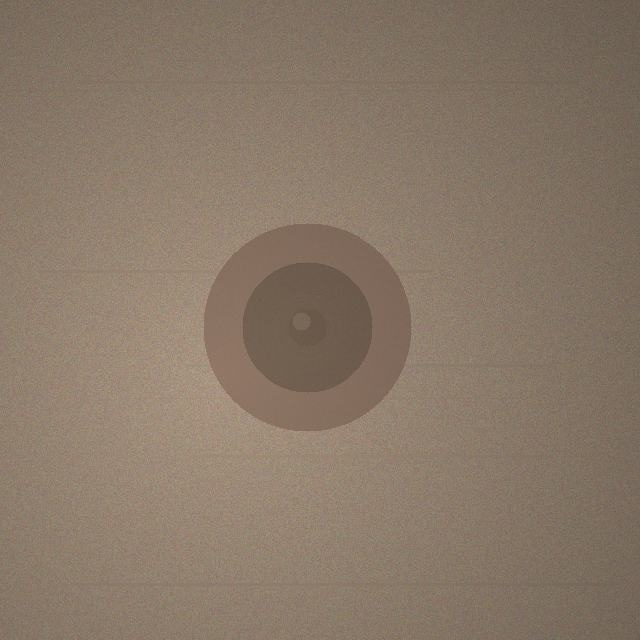good: (203, 223, 411, 431)
